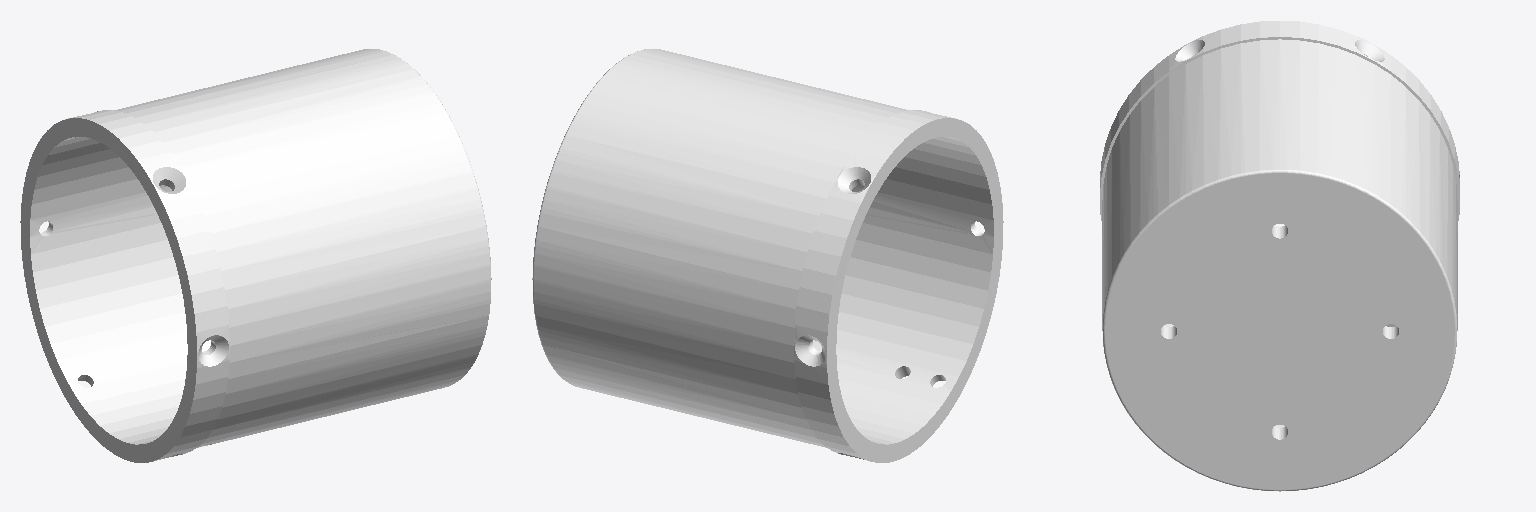
URDF robot description (assembly):
<?xml version="1.0" encoding="utf-8"?>
<!-- This URDF was automatically created by SolidWorks to URDF Exporter! Originally created by [author] ([email redacted]) 
     Commit Version: 1.6.0-4-g7f85cfe  Build Version: 1.6.7995.38578
     For more information, please see http://wiki.ros.org/sw_urdf_exporter -->
<robot
  name="assembly">
  <link
    name="assembly_base_link">
    <inertial>
      <origin
        xyz="0.024125 6.5129E-06 -1.1295E-05"
        rpy="0 0 0" />
      <mass
        value="0.049705" />
      <inertia
        ixx="3.9724E-05"
        ixy="-9.0252E-09"
        ixz="1.566E-08"
        iyy="4.0486E-05"
        iyz="-8.5428E-09"
        izz="4.0496E-05" />
    </inertial>
    <visual>
      <origin
        xyz="0 0 0"
        rpy="0 0 0" />
      <geometry>
        <mesh
          filename="package://kinova_description/assembly/meshes/final_assembly.STL" scale="0.001 0.001 0.001"/>
      </geometry>
      <material
        name="">
        <color
          rgba="1 1 1 1" />
      </material>
    </visual>
    <collision>
      <origin
        xyz="0 0 0"
        rpy="0 0 0" />
      <geometry>
        <mesh
          filename="package://kinova_description/assembly/meshes/final_assembly.STL" scale="0.001 0.001 0.001"/>
      </geometry>
    </collision>
  </link>
</robot>

--- What the picture shows (computed from the rendered views, not written in the file) ---
3 views of the same robot in one strip: view 1: azimuth 30°, elevation 25°; view 2: azimuth 150°, elevation 25°; view 3: azimuth 270°, elevation 25° (orthographic).
Model assembly with 1 links and 0 joints (none), rooted at assembly_base_link, posed all joints at 0.
Visible links, largest first — view 1: assembly_base_link; view 2: assembly_base_link; view 3: assembly_base_link.
Boxes of the visible links, bbox=[...] form: assembly_base_link: bbox=[20, 49, 491, 462]; assembly_base_link: bbox=[532, 49, 1003, 462]; assembly_base_link: bbox=[1100, 21, 1459, 491].
Bounding box of the posed robot: 0.063 × 0.065 × 0.065 m (x, y, z).
Meshes: 1 distinct files referenced, 1 mesh visuals loaded (1 binary STL).